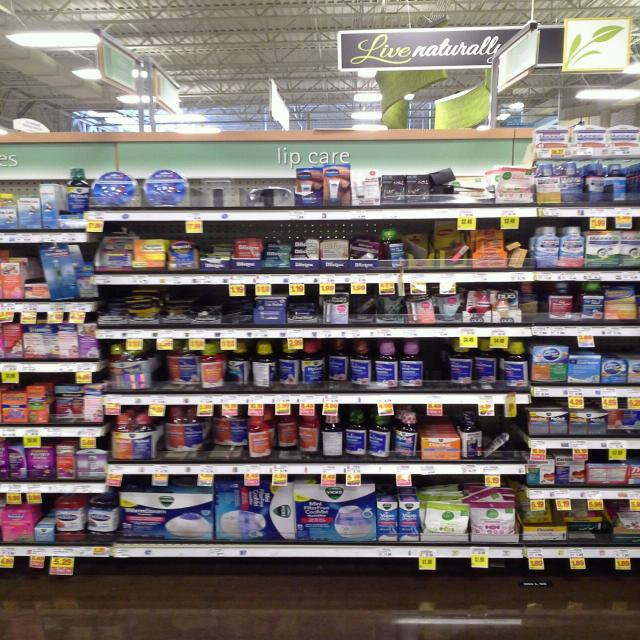void: (489, 409, 523, 460)
